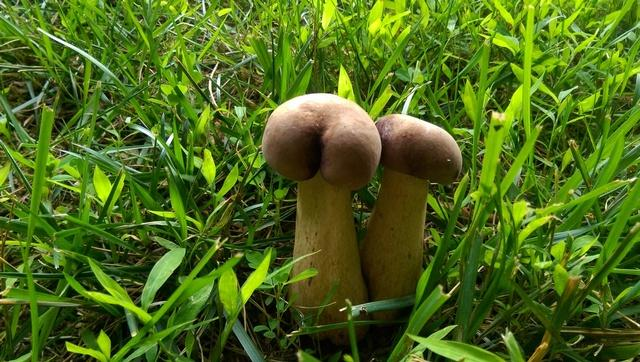poisonous_mushroom: (260, 91, 382, 344), (360, 112, 463, 322)
